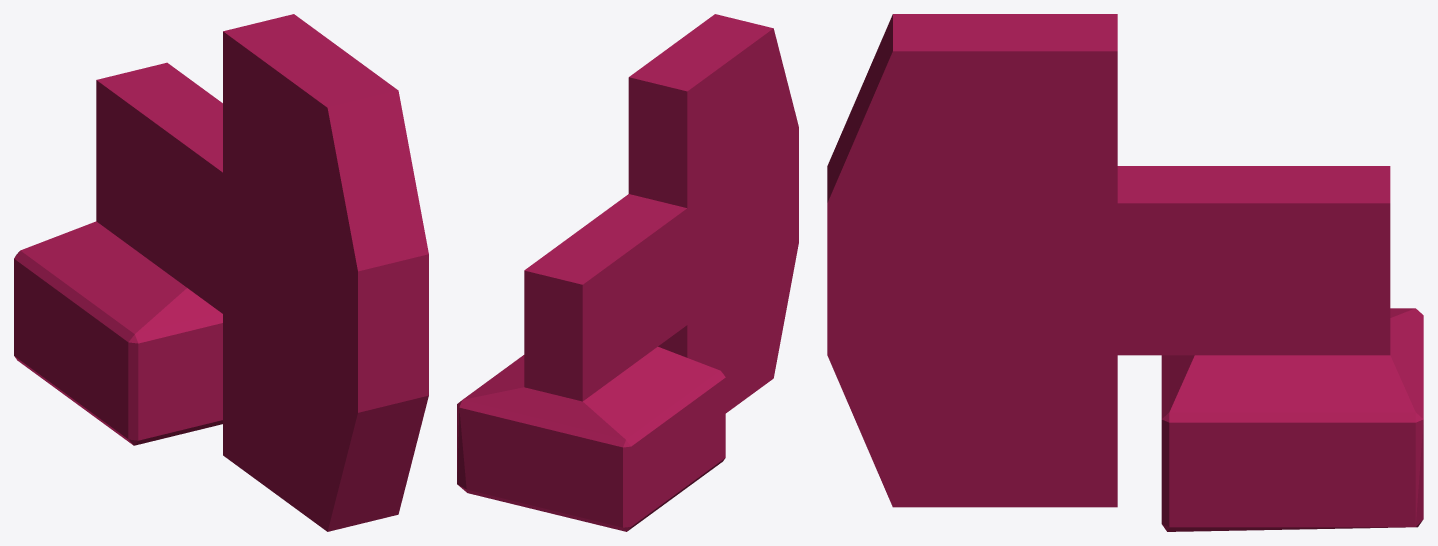
The model's file is Part_car_mirror.FBX.
3 renders of one model, left to right at view 1: azimuth 30°, elevation 25°; view 2: azimuth 150°, elevation 25°; view 3: azimuth 270°, elevation 25°, orthographic. The views are drawn at different scales.
Visible parts, largest first — view 1: Part_car_mirror; view 2: Part_car_mirror; view 3: Part_car_mirror.
Boxes of the visible parts, <box> form: Part_car_mirror: <box>14,14,428,531</box>; Part_car_mirror: <box>457,14,798,531</box>; Part_car_mirror: <box>827,14,1423,531</box>.
Size of the model in its own units: 100 by 228 by 192.
